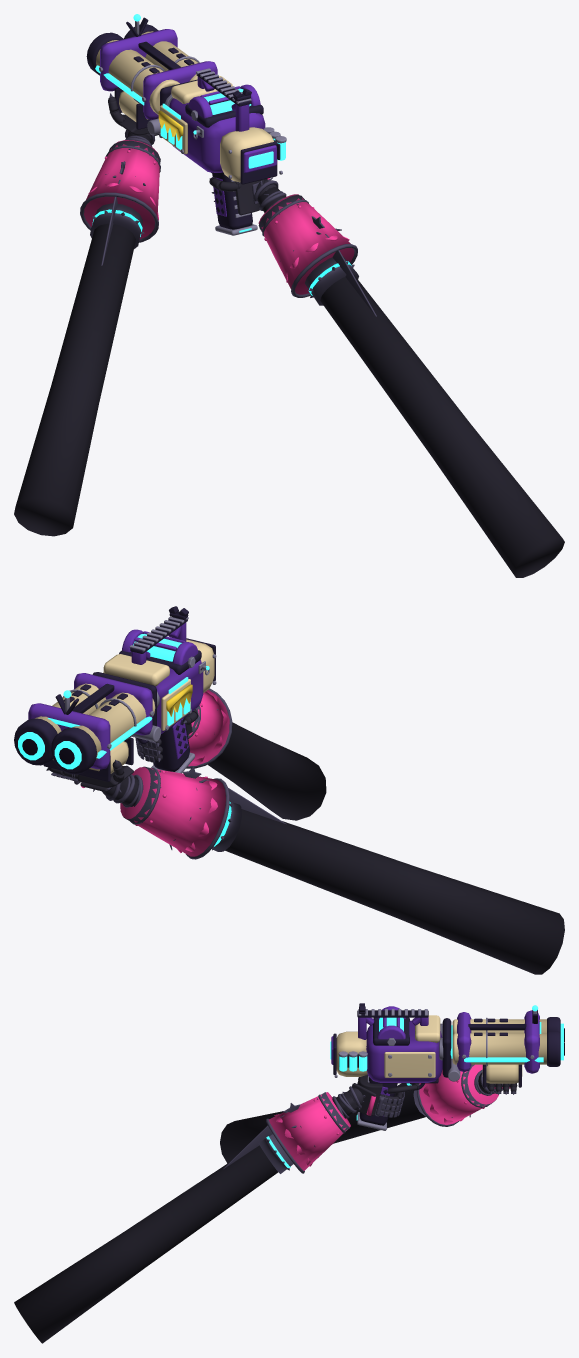
The model's file is scatter_blaster.glb.
3 renders of one model, top to bottom at view 1: azimuth 30°, elevation 25°; view 2: azimuth 150°, elevation 25°; view 3: azimuth 270°, elevation 25°, orthographic. The views are drawn at different scales.
Visible parts, largest first — view 1: ArmR, ArmL, Shell, Barrels, ArmRKitBell, ArmLKitBell, Drum, Pump; view 2: ArmL, Barrels, Shell, ArmR, ArmLKitBell, ArmRKitBell, Drum, Pump, ArmLKitGauntlet, ArmLKitFins; view 3: ArmR, Shell, Barrels, ArmRKitBell, ArmL, ArmLKitBell, Pump, Drum, ArmRKitGauntlet.
Boxes of the visible parts, <box> form: ArmR: <box>209,177,564,577</box>; ArmL: <box>14,96,151,536</box>; Shell: <box>147,68,286,235</box>; Barrels: <box>86,24,217,119</box>; ArmRKitBell: <box>258,194,357,297</box>; ArmLKitBell: <box>80,140,160,242</box>; Drum: <box>188,84,260,120</box>; Pump: <box>114,87,151,129</box>; ArmL: <box>48,760,564,974</box>; Barrels: <box>14,673,155,774</box>; Shell: <box>92,616,216,773</box>; ArmR: <box>138,709,326,820</box>; ArmLKitBell: <box>120,766,229,859</box>; ArmRKitBell: <box>186,688,232,768</box>; Drum: <box>122,629,198,667</box>; Pump: <box>43,737,133,781</box>; ArmLKitGauntlet: <box>51,766,166,825</box>; ArmLKitFins: <box>119,779,286,824</box>; ArmR: <box>14,1074,418,1343</box>; Shell: <box>330,1009,460,1130</box>; Barrels: <box>452,1010,564,1073</box>; ArmRKitBell: <box>266,1092,350,1173</box>; ArmL: <box>220,1072,516,1163</box>; ArmLKitBell: <box>417,1064,498,1126</box>; Pump: <box>482,1064,522,1087</box>; Drum: <box>377,1006,405,1045</box>; ArmRKitGauntlet: <box>313,1084,404,1135</box>.
Size of the model in its own units: 1.38 by 1.16 by 1.94.
